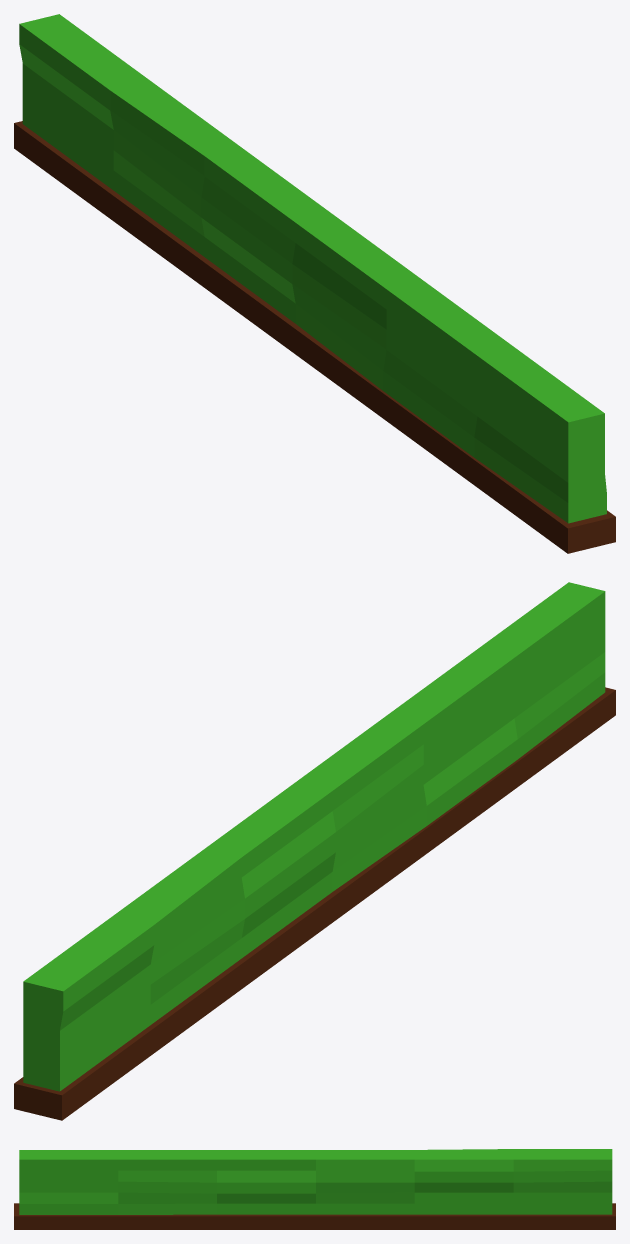
The model's file is Arbusto2.fbx.
3 renders of one model, top to bottom at view 1: azimuth 30°, elevation 25°; view 2: azimuth 150°, elevation 25°; view 3: azimuth 270°, elevation 25°, orthographic. The views are drawn at different scales.
Parts seen in each view (by area): view 1: Arbusto; view 2: Arbusto; view 3: Arbusto.
Boxes of the visible parts, x1,y1,x2,y2 form: Arbusto: [14, 14, 615, 553]; Arbusto: [14, 582, 615, 1120]; Arbusto: [14, 1149, 615, 1229].
Bounding box in the file's own units: 397 × 996 × 7909.
